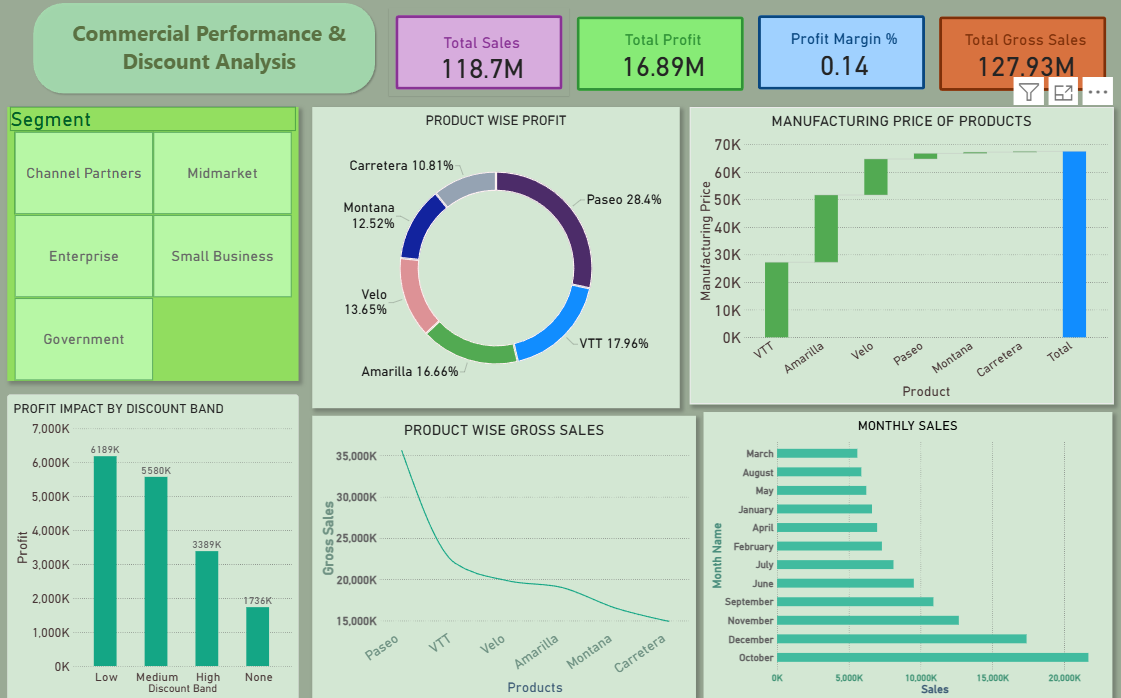

The dashboard page shown, as its layout file describes it:
{"tool":"powerbi","page":{"name":" DASHBOARD","canvas":[3000,1899],"ordinal":0},"visuals":[{"type":"barChart","title":"MONTHLY SALES","fields":{"Category":["financials.Month Name"],"Y":["Sum(financials. Sales)"]},"box":[1886.7,1106.7,1090,770],"z":0},{"type":"lineChart","title":"PRODUCT WISE GROSS SALES","fields":{"Category":["financials.Product"],"Y":["Sum(financials.Gross Sales)"]},"box":[843.3,1116.7,1023.3,760],"z":1000},{"type":"donutChart","title":"PRODUCT WISE PROFIT","fields":{"Category":["financials.Product"],"Y":["Sum(financials.Profit)"]},"box":[843.3,293.3,980,803.3],"z":2000},{"type":"cardVisual","fields":{"Data":["financials.Total Sales"]},"box":[1046.7,30,482.5,235],"z":3000},{"type":"cardVisual","fields":{"Data":["financials.Total Profit"]},"box":[1530,33.3,482.5,235],"z":4000},{"type":"cardVisual","fields":{"Data":["financials.Profit Margin %"]},"box":[2013.3,30,482.5,235],"z":5000},{"type":"cardVisual","fields":{"Data":["financials.Total Gross Sales"]},"box":[2496.7,33.3,482.5,235],"z":6000},{"type":"slicer","fields":{"Values":["financials.Segment"]},"box":[30,293.3,776.7,730],"z":7000},{"type":"waterfallChart","title":"MANUFACTURING PRICE OF PRODUCTS ","fields":{"Category":["financials.Product"],"Y":["Sum(financials.Manufacturing Price)"]},"box":[1850,293.3,1130,793.3],"z":8000},{"type":"clusteredColumnChart","title":"PROFIT IMPACT BY  DISCOUNT BAND","fields":{"Category":["financials.Discount Band"],"Y":["Sum(financials.Profit)"]},"box":[30,1060,776.7,816.7],"z":9000},{"type":"shape","box":[90,6.7,930,260],"z":10000},{"type":"textbox","box":[160,56.7,816.7,170],"z":11000}]}

Visuals, with their boxes in screenshot pixels (x1, y1, x2, y2):
"MONTHLY SALES" barChart: [x1=700, y1=416, x2=1109, y2=697]
"PRODUCT WISE GROSS SALES" lineChart: [x1=308, y1=419, x2=692, y2=697]
"PRODUCT WISE PROFIT" donutChart: [x1=308, y1=110, x2=676, y2=412]
cardVisual - financials.Total Sales: [x1=384, y1=11, x2=566, y2=100]
cardVisual - financials.Total Profit: [x1=566, y1=13, x2=747, y2=101]
cardVisual - financials.Profit Margin %: [x1=748, y1=11, x2=929, y2=100]
cardVisual - financials.Total Gross Sales: [x1=929, y1=13, x2=1110, y2=101]
slicer - financials.Segment: [x1=3, y1=110, x2=294, y2=384]
"MANUFACTURING PRICE OF PRODUCTS " waterfallChart: [x1=686, y1=110, x2=1111, y2=408]
"PROFIT IMPACT BY  DISCOUNT BAND" clusteredColumnChart: [x1=3, y1=398, x2=294, y2=697]
shape: [x1=25, y1=3, x2=374, y2=100]
textbox: [x1=51, y1=21, x2=358, y2=85]
